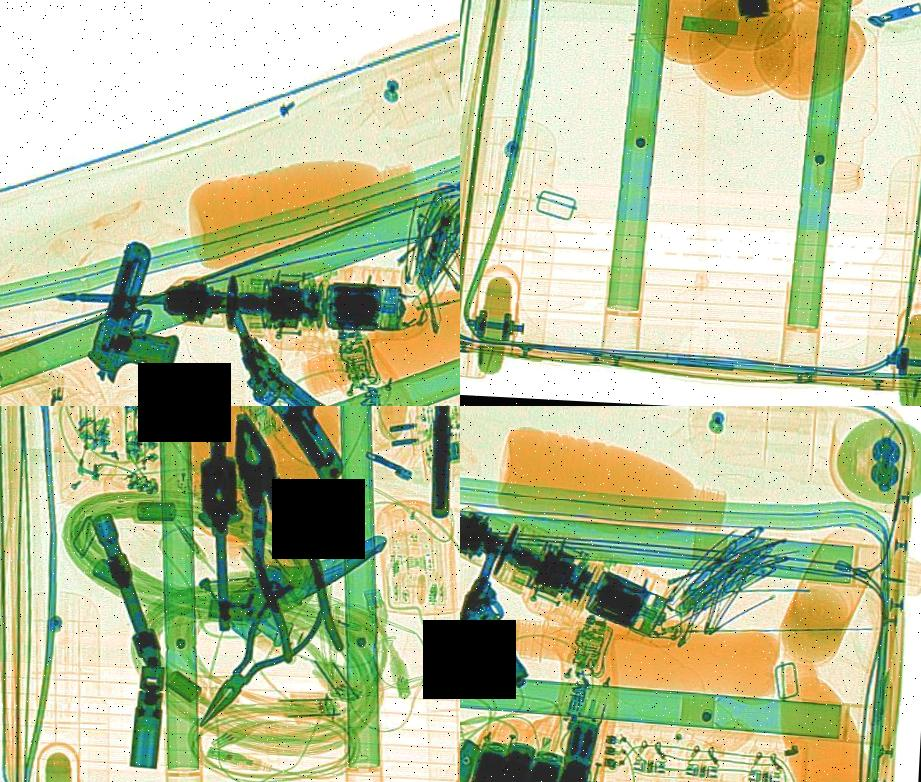Gun: (84, 235, 213, 392), (186, 305, 355, 406), (460, 543, 572, 687), (233, 406, 403, 492), (460, 420, 508, 584), (720, 0, 811, 21)
Pliers: (195, 406, 363, 675), (181, 564, 334, 750)
